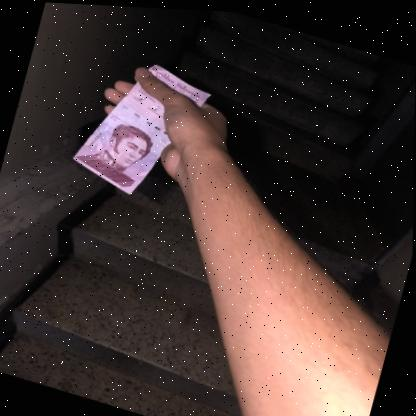one_hundred-front-vef: (66, 44, 216, 211)
